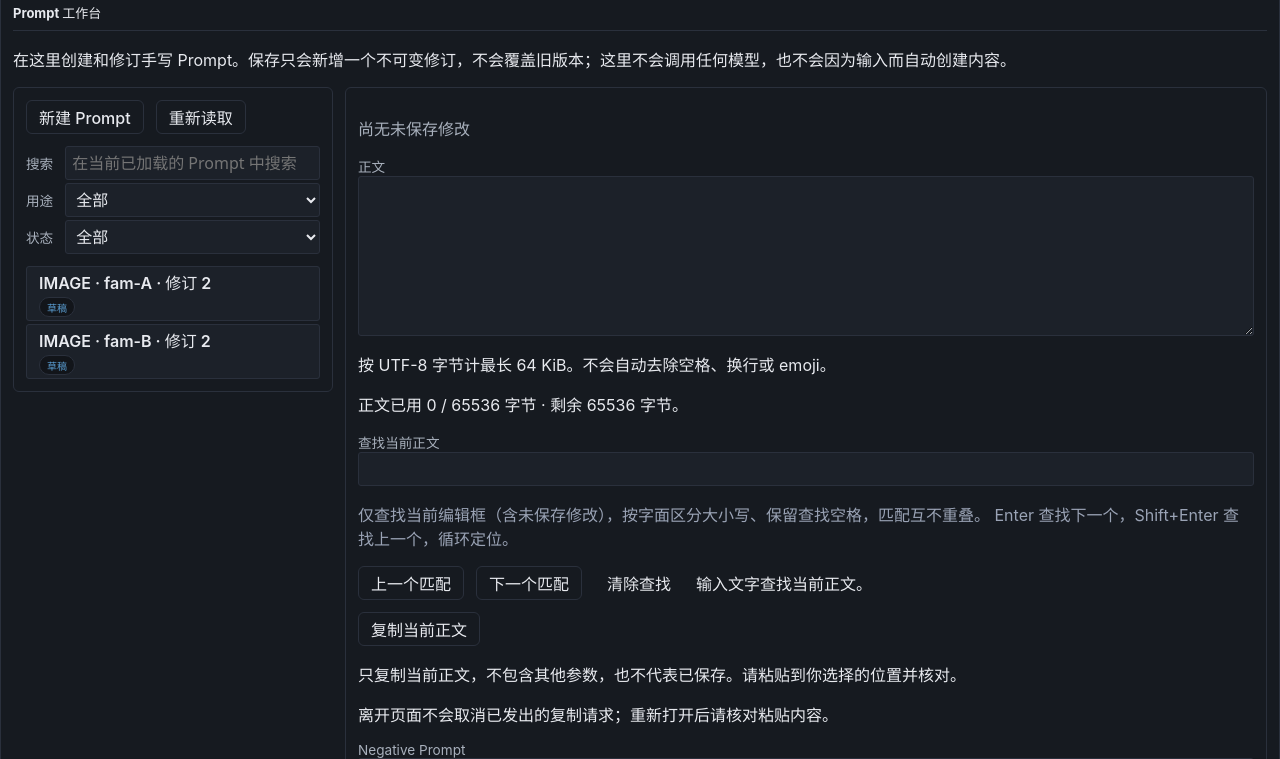
it: 家族 A 尚未完成的正文比较不得回填到 B › 放行 A 的两条正文 GET 后，B 下不得出现 A 的差异、明文或旧错误
The image size is (1280, 759).
Step 1. Click the button "IMAGE · fam-A · 修订 2 草稿" → [173, 294], box [26,266,320,321]
(page scrolled)
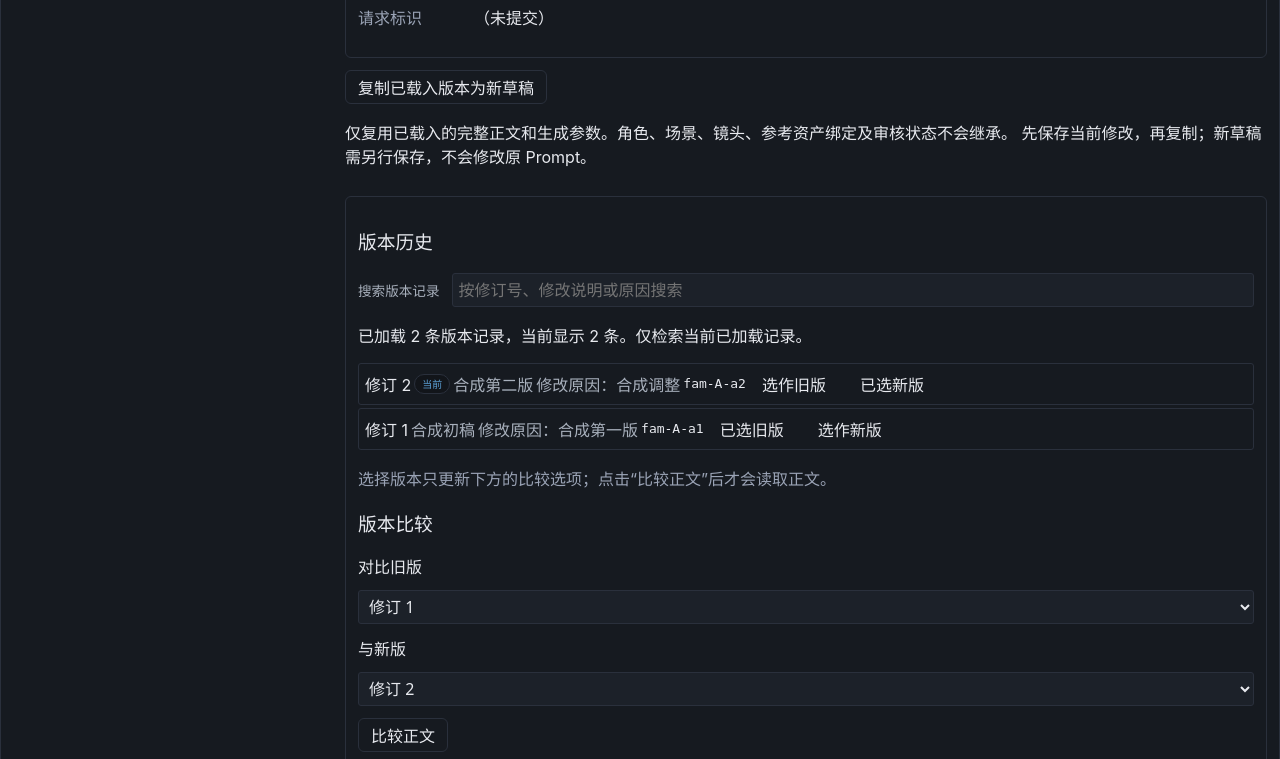
启动 A 的比较：两条正文 GET 已发出但被挂起。
Step 2. Click the button "比较正文" → [403, 735], box [358,718,448,752]
(page scrolled)
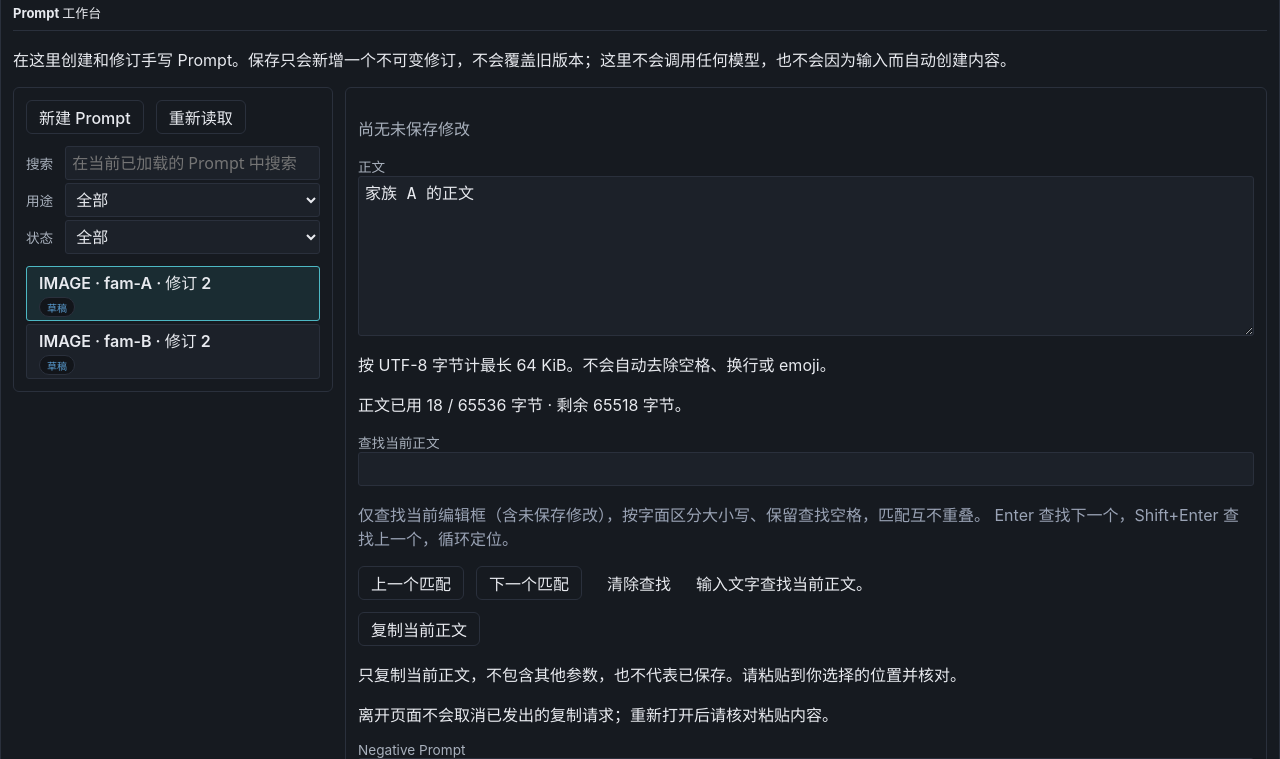
用户在 A 的比较未完成时切到 B。
Step 3. Click the button "IMAGE · fam-B · 修订 2 草稿" → [173, 352], box [26,324,320,379]
(page scrolled)
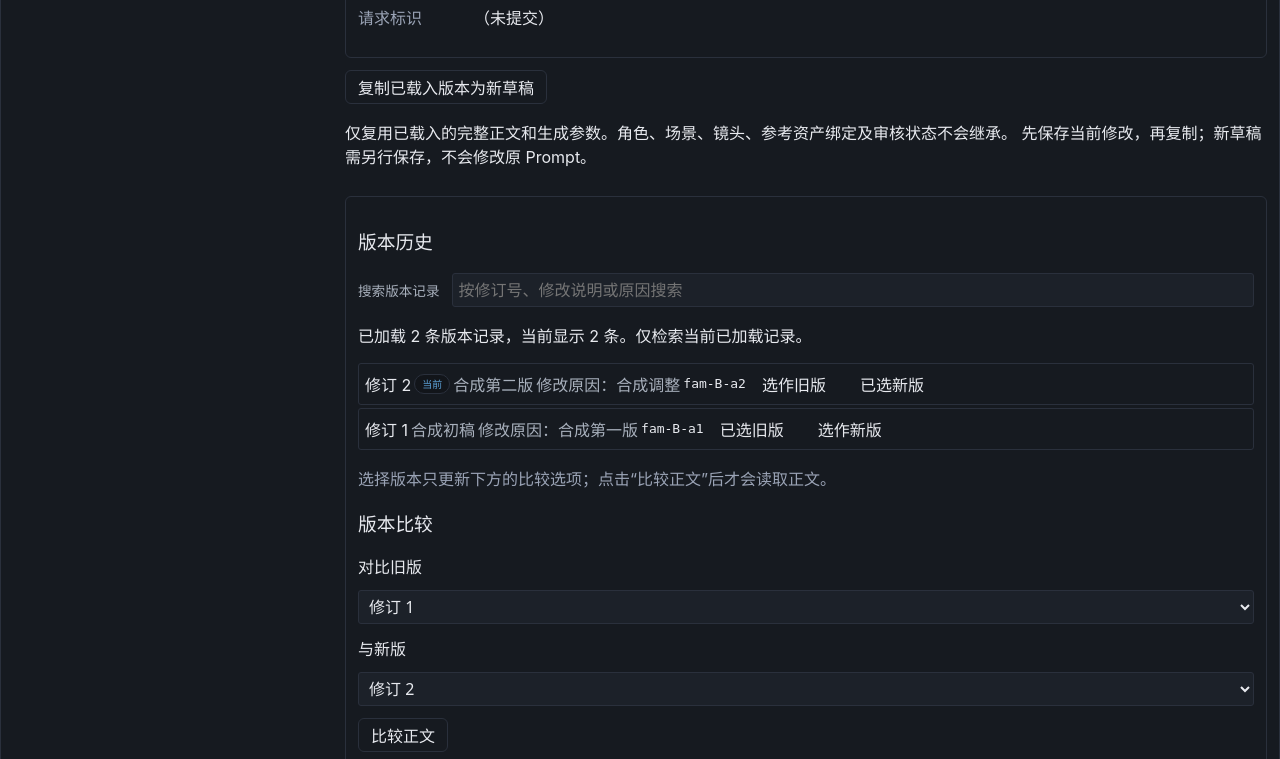
Expected: the element named "版本历史" shows "fam-B-a1", [641,421,704,436]
